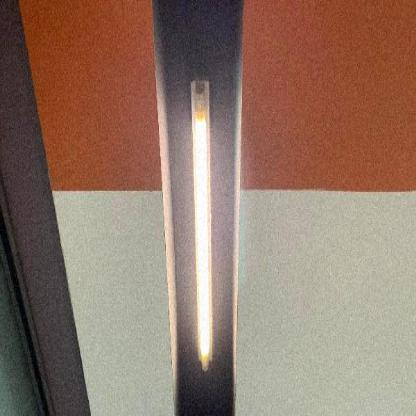light_on: (182, 75, 220, 377)
